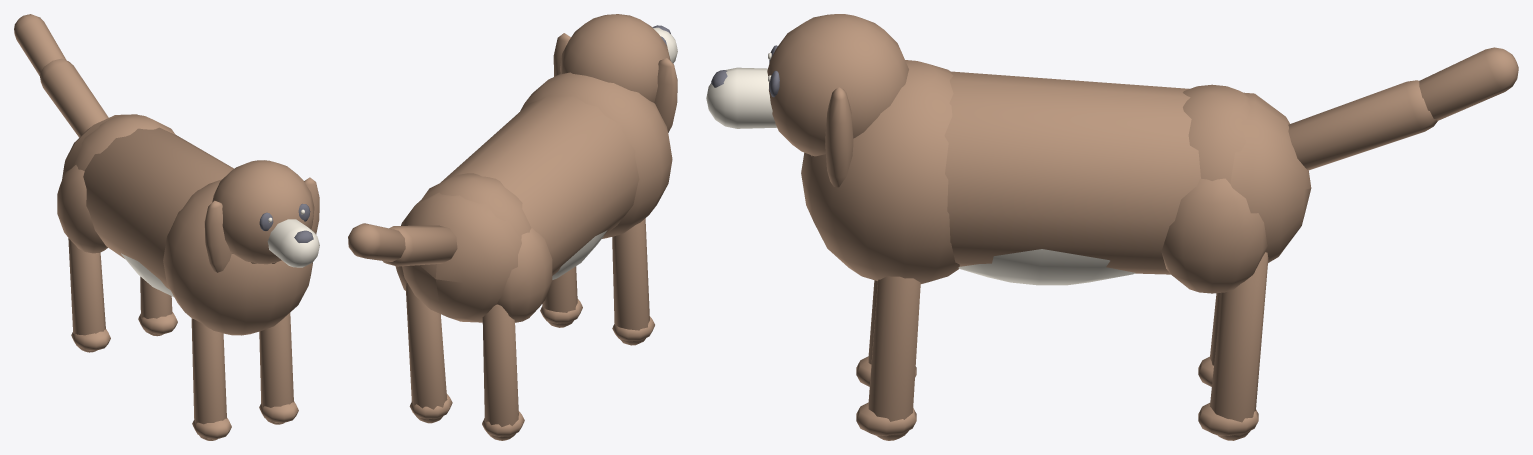
File: dog-spaniel.glb
The picture shows the model from 3 angles, left to right: view 1: azimuth 30°, elevation 25°; view 2: azimuth 150°, elevation 25°; view 3: azimuth 270°, elevation 25°; orthographic projection. The views are drawn at different scales.
Parts seen in each view (by area): view 1: dog-spaniel; view 2: dog-spaniel; view 3: dog-spaniel.
Part boxes in pixels (box(x1,y1,x2,y2)): dog-spaniel: box(14, 14, 319, 440); dog-spaniel: box(348, 14, 677, 440); dog-spaniel: box(706, 14, 1518, 440).
Bounding box in the file's own units: 0.242 × 0.4827 × 0.899.
